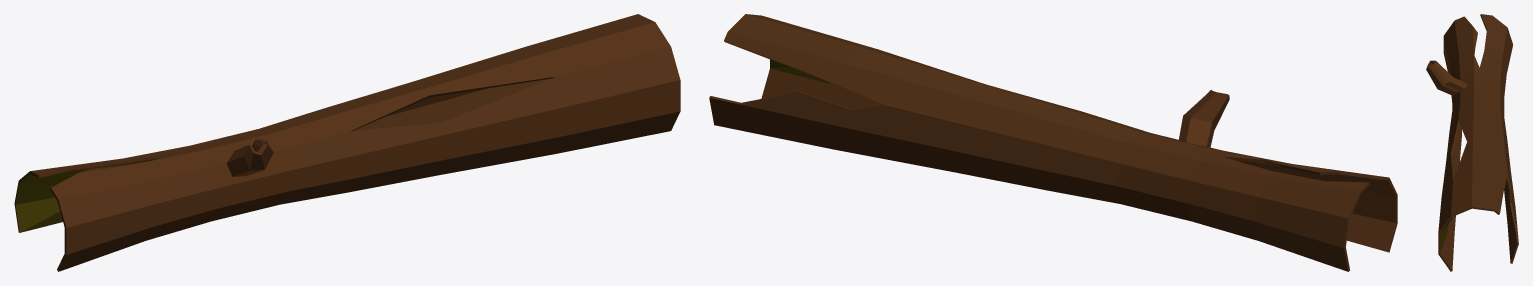
The model's file is rottinglog.fbx.
The picture shows the model from 3 angles, left to right: view 1: azimuth 30°, elevation 25°; view 2: azimuth 150°, elevation 25°; view 3: azimuth 270°, elevation 25°; orthographic projection. The views are drawn at different scales.
Parts seen in each view (by area): view 1: Cylinder; view 2: Cylinder; view 3: Cylinder.
Part boxes in pixels (<box>): Cylinder: <box>14,14,680,271</box>; Cylinder: <box>709,14,1397,271</box>; Cylinder: <box>1426,14,1518,271</box>.
Bounding box in the file's own units: 1767 × 295 × 348.
